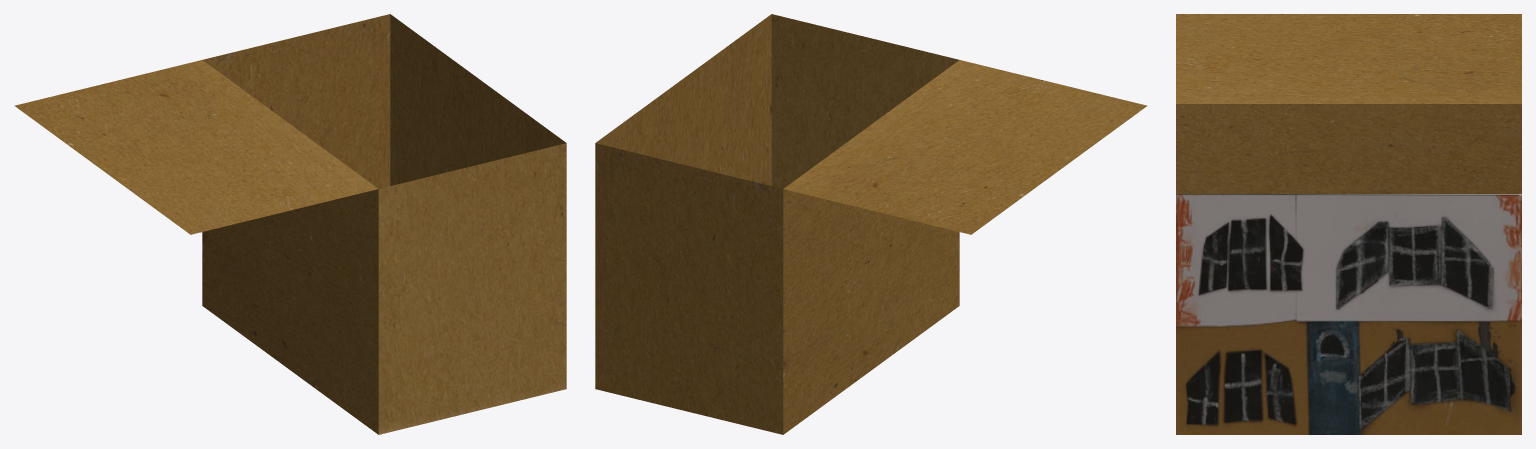
3 renders of one model, left to right at view 1: azimuth 30°, elevation 25°; view 2: azimuth 150°, elevation 25°; view 3: azimuth 270°, elevation 25°, orthographic. The views are drawn at different scales.
Visible parts, largest first — view 1: Cube, Cube.002, Cube.003; view 2: Cube, Cube.002, Cube.003; view 3: Cube, Cube.002, Cube.003.
Part boxes in pixels (x1=…): Cube: x1=202, y1=143, x2=566, y2=434; Cube.002: x1=14, y1=60, x2=377, y2=234; Cube.003: x1=202, y1=14, x2=566, y2=188; Cube: x1=595, y1=143, x2=959, y2=434; Cube.002: x1=784, y1=60, x2=1147, y2=234; Cube.003: x1=595, y1=14, x2=959, y2=188; Cube: x1=1176, y1=194, x2=1521, y2=434; Cube.002: x1=1176, y1=14, x2=1521, y2=103; Cube.003: x1=1176, y1=104, x2=1521, y2=193.
Bounding box in the file's own units: 16 × 10 × 13.
1 material, 1 textured.
